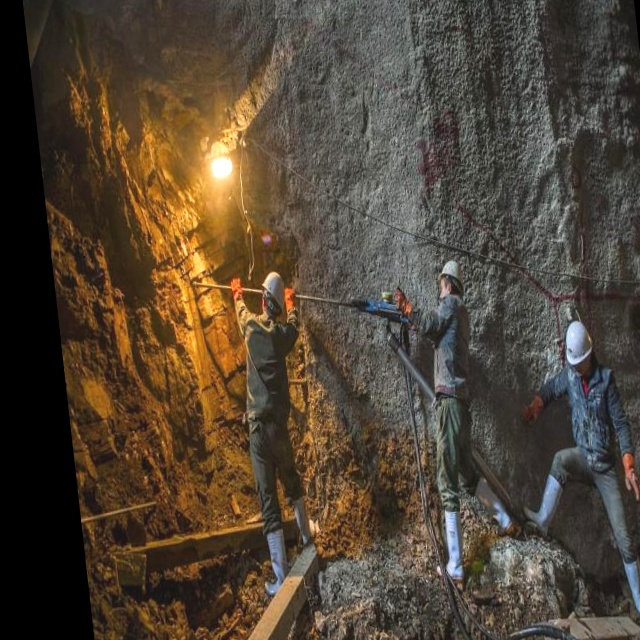Con_Casco: (562, 319, 596, 375), (261, 271, 287, 319), (435, 257, 465, 297)
Sin_Chaleco: (239, 314, 295, 433)
